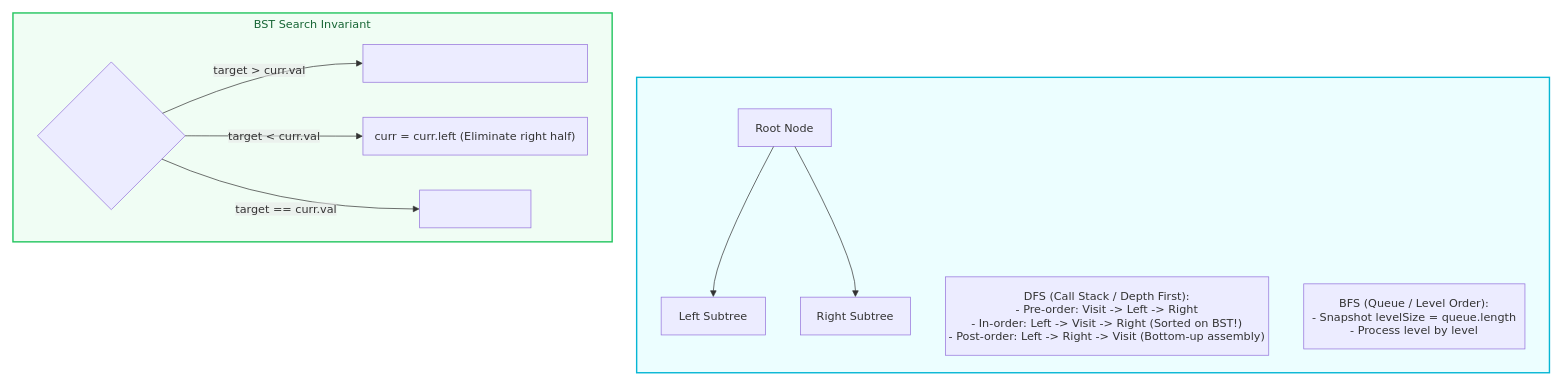
This 1562x385 diagram has some shape labels left out. The shapes that lost their labels are listed below. From the top down, each one's box as (x1, y1, x2, y2) in pixels, then its label:
(362, 44, 588, 82): curr = curr.right (Eliminate left half)
(37, 61, 185, 210): target vs curr.val
(419, 189, 531, 228): Target Found!
(636, 76, 1550, 373): Binary Tree Traversals
